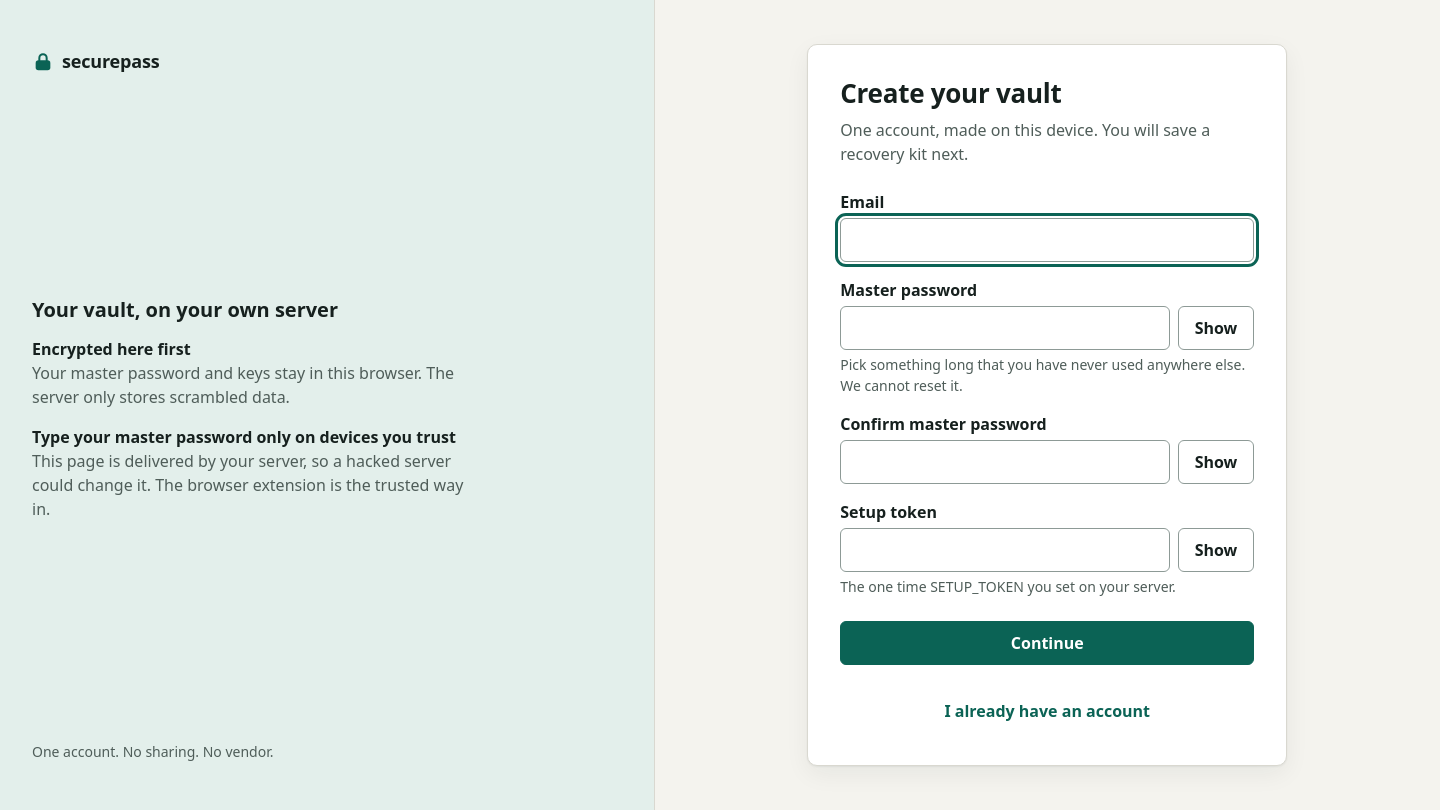
Test: SetupScreen account step › shows an alert and stays on the form when key creation fails
Type "me@example.com" into the field labelled "Email" at [1047, 240], box [840,218,1254,262]
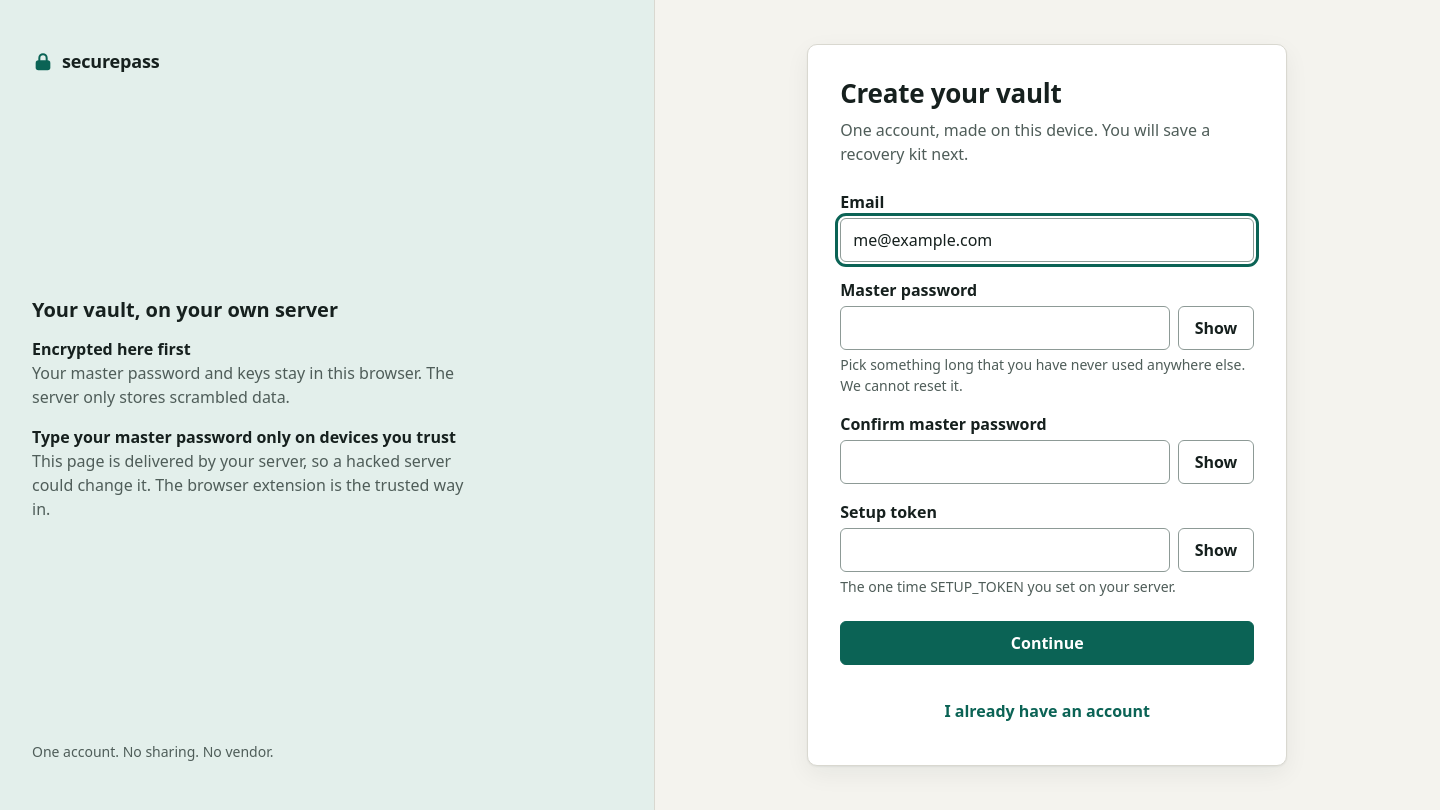
Type "a long master password" into the password field labelled "Master password" at [1005, 328], box [840,306,1170,350]
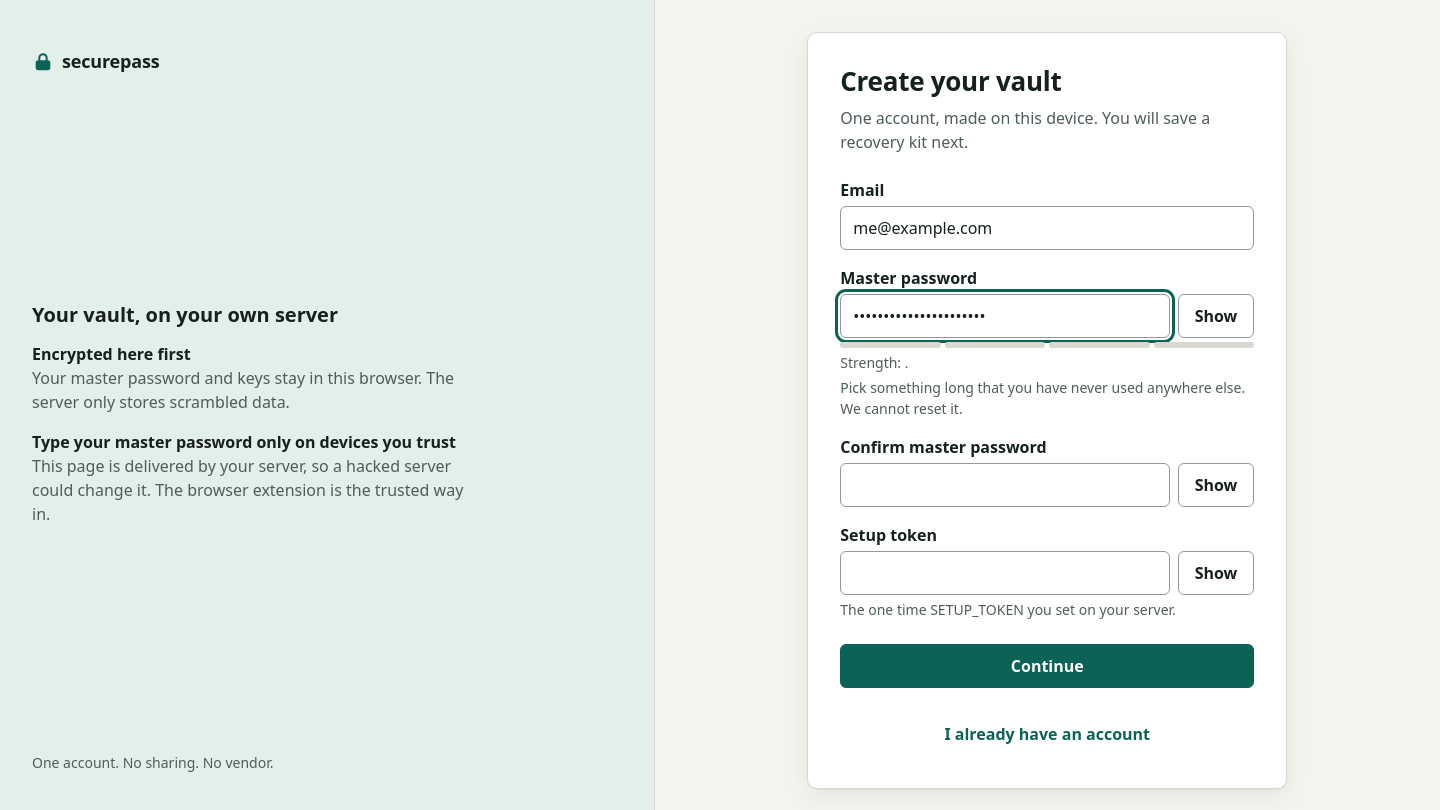
Type "a long master password" into the password field labelled "Confirm master password" at [1005, 484], box [840,462,1170,506]
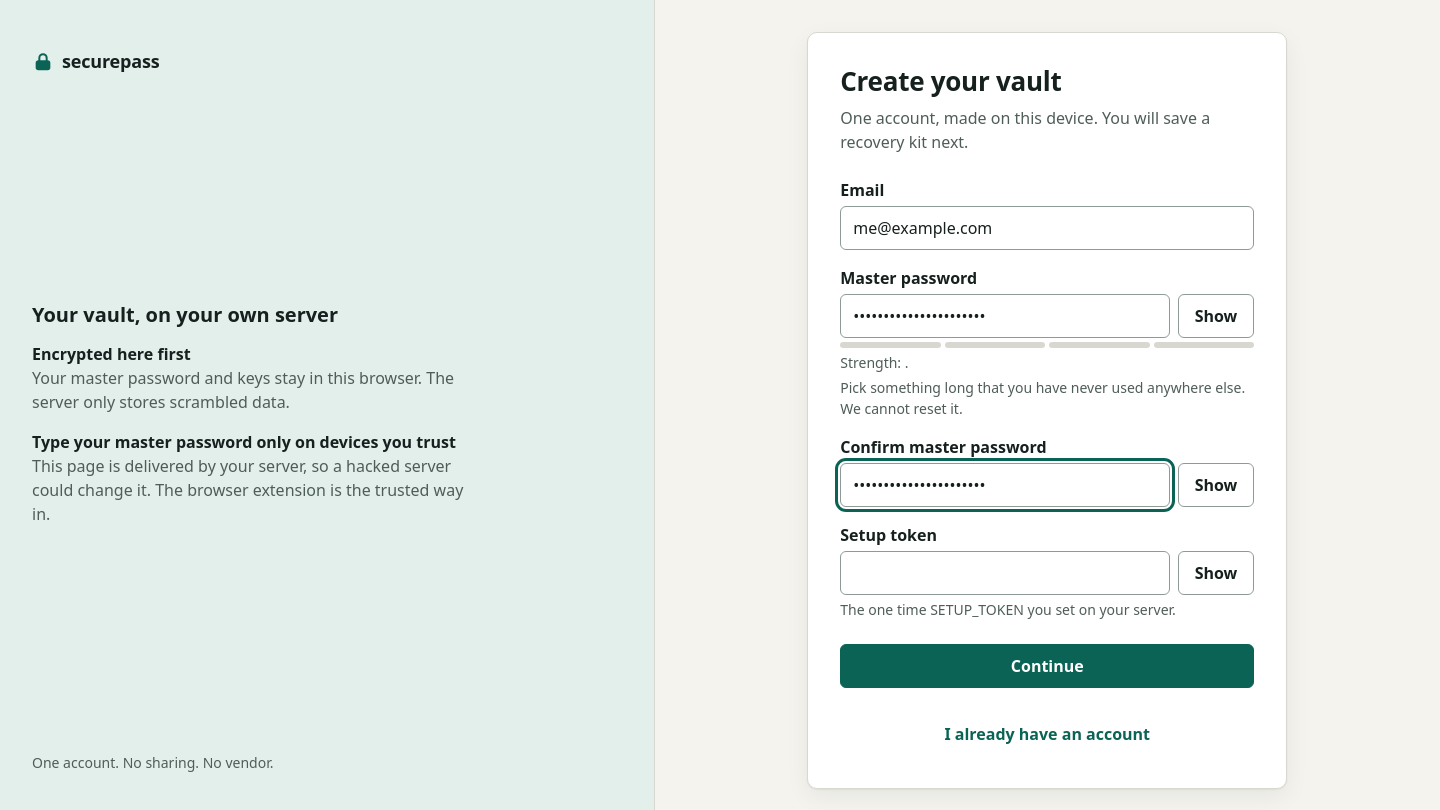
Type "setup-token" into the password field labelled "Setup token" at [1005, 572], box [840,550,1170,594]
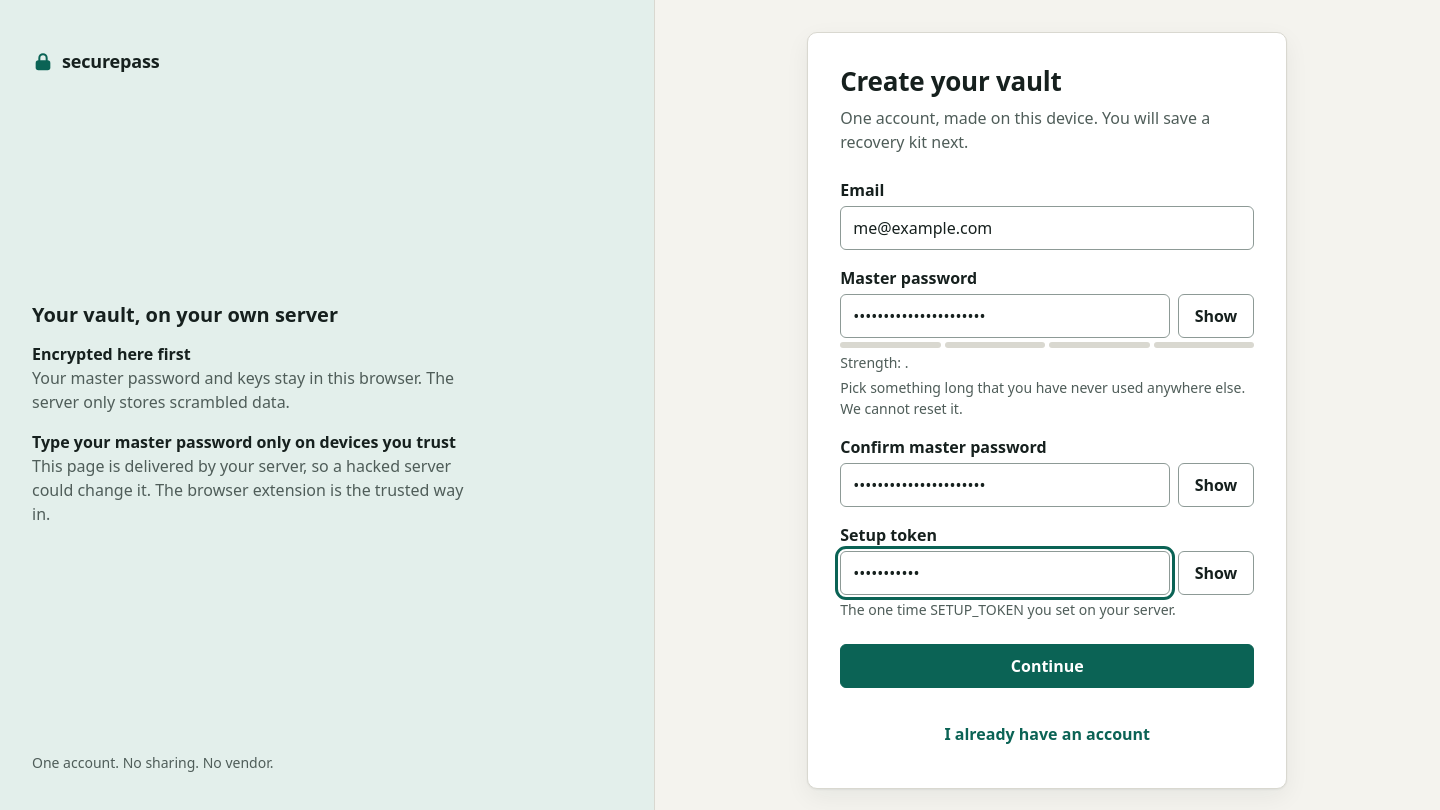
Click the button "Continue" at [1047, 666], box [840,644,1254,688]
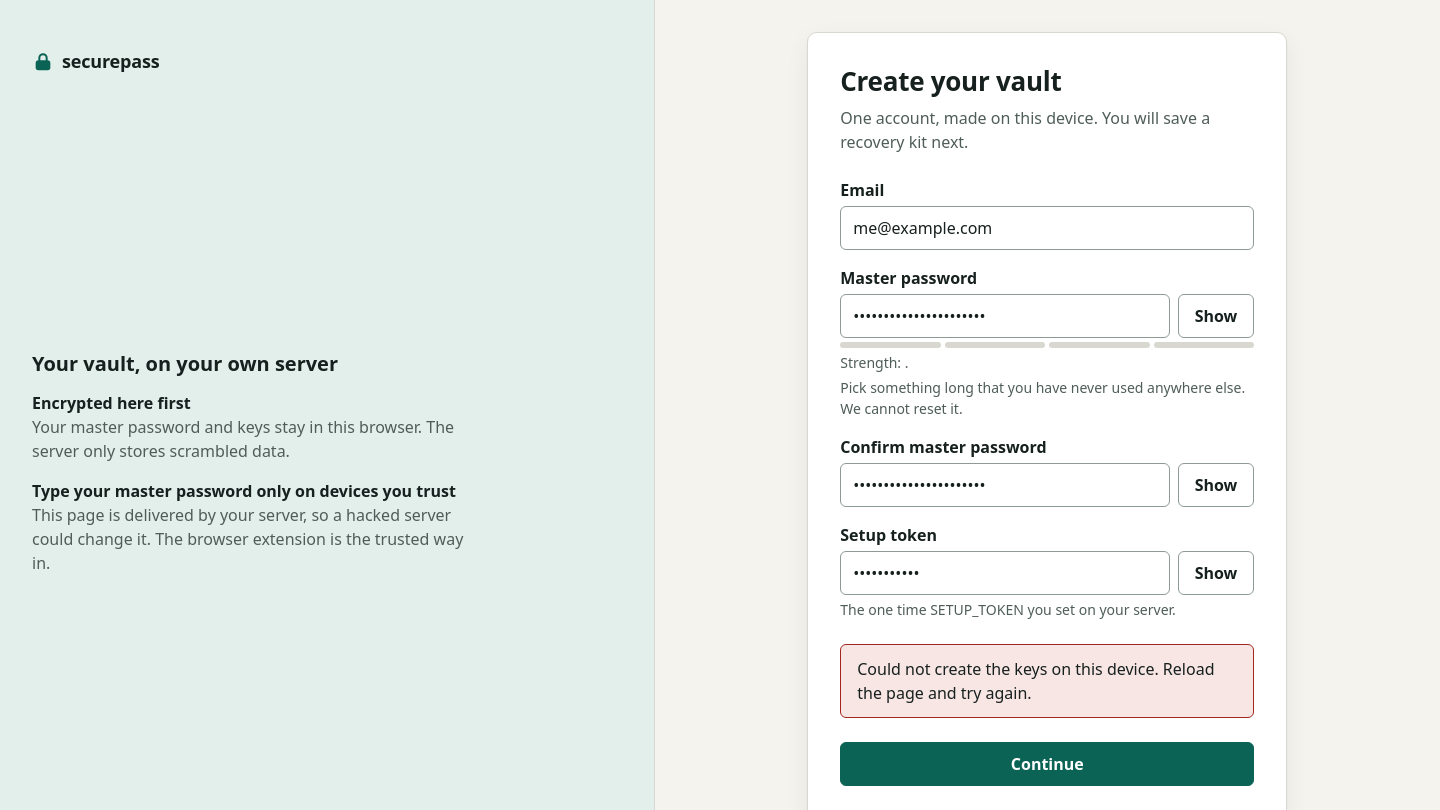
Expected: the heading "Create your vault" is shown, [840,63,1062,99]
Now the message shows "Could not create the keys", box [857,658,1214,704]
